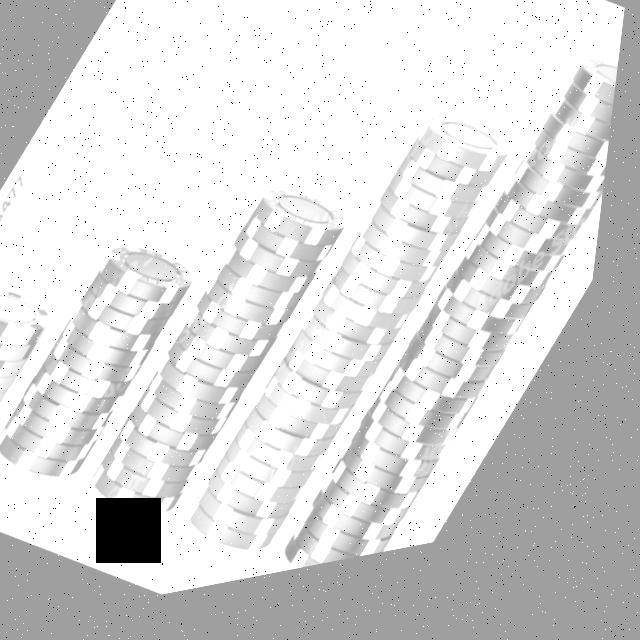Chip: (286, 61, 625, 587), (182, 100, 536, 593), (81, 163, 377, 558), (0, 221, 220, 514), (0, 257, 77, 462)
